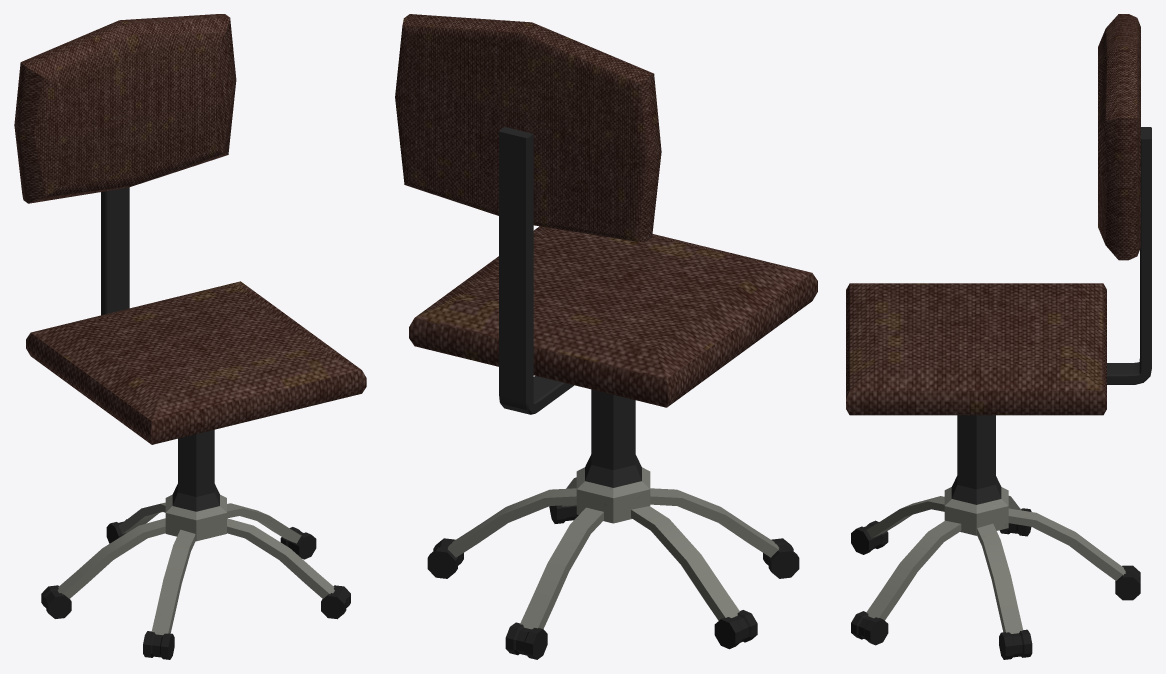
The model's file is chair.fbx.
The picture shows the model from 3 angles, left to right: view 1: azimuth 30°, elevation 25°; view 2: azimuth 150°, elevation 25°; view 3: azimuth 270°, elevation 25°; orthographic projection. The views are drawn at different scales.
Visible parts, largest first — view 1: chair_backrest, chair_seat, leg (×5), chair_legs, chair_support, legWheel (×4); view 2: chair_backrest, chair_seat, leg (×4), chair_support, chair_legs, legWheel (×4); view 3: chair_seat, chair_backrest, leg (×4), chair_legs, chair_support, legWheel (×4).
Boxes of the visible parts, box(x1,y1,x2,y2) form: chair_backrest: box(14, 14, 236, 203); chair_seat: box(26, 281, 366, 444); leg (×5): box(57, 502, 334, 635); chair_legs: box(165, 429, 226, 541); chair_support: box(101, 187, 129, 315); legWheel (×4): box(41, 527, 350, 659); chair_backrest: box(395, 14, 661, 241); chair_seat: box(409, 226, 817, 407); leg (×4): box(448, 488, 778, 629); chair_support: box(499, 127, 573, 414); chair_legs: box(576, 389, 650, 523); legWheel (×4): box(427, 538, 799, 659); chair_seat: box(846, 283, 1106, 415); chair_backrest: box(1098, 14, 1140, 260); leg (×4): box(866, 496, 1125, 633); chair_legs: box(944, 415, 1008, 535); chair_support: box(1107, 127, 1151, 384); legWheel (×4): box(851, 520, 1140, 659).
Bounding box in the file's own units: 0.687 × 1.28 × 0.6482.
